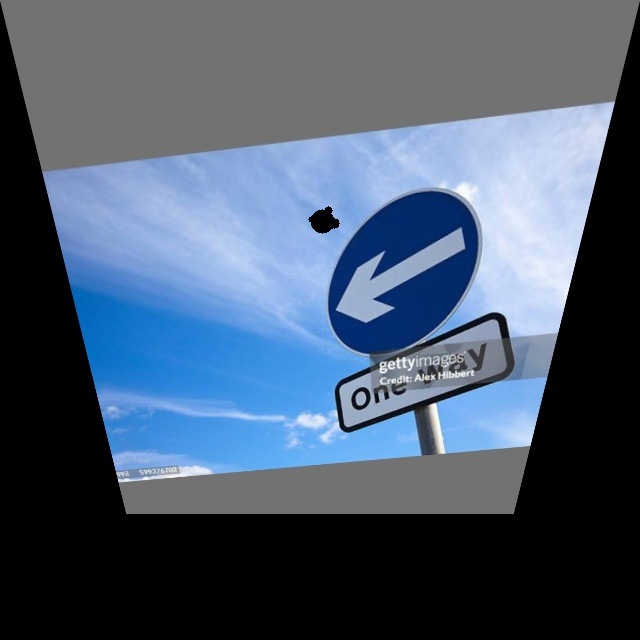Compulsory_Turn_Left: (307, 177, 501, 357)
